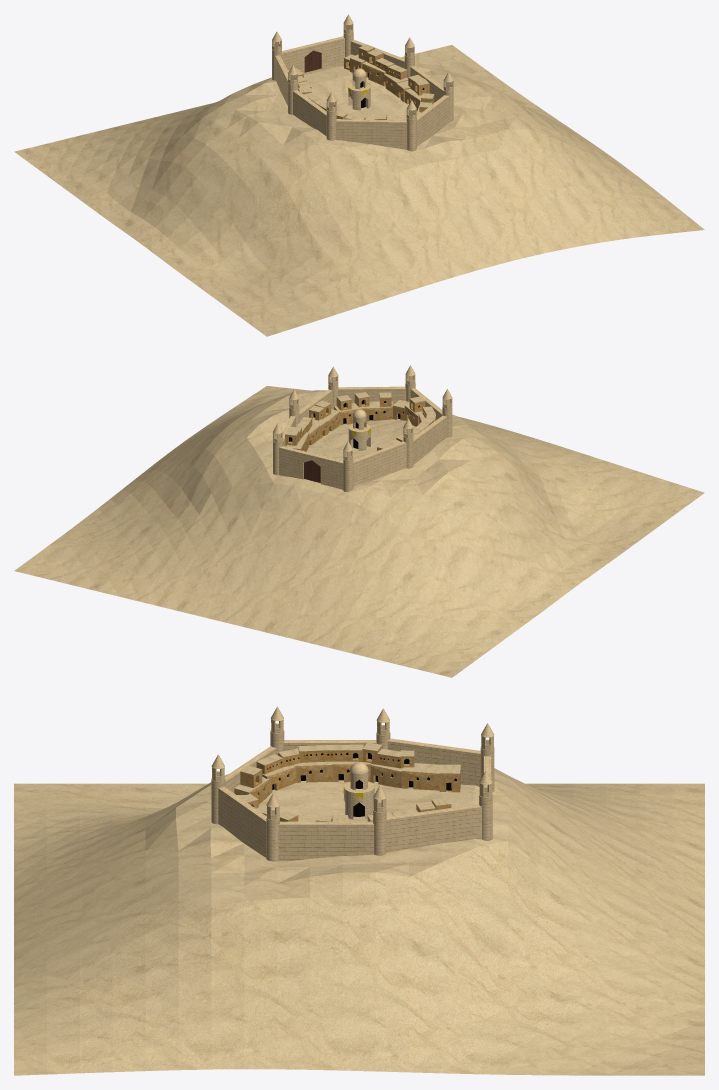
Rendered from castle_desert.dae.
The picture shows the model from 3 angles, top to bottom: view 1: azimuth 30°, elevation 25°; view 2: azimuth 150°, elevation 25°; view 3: azimuth 270°, elevation 25°; orthographic projection. The views are drawn at different scales.
Visible parts, largest first — view 1: Plane, Cube.007, Cube.005, Cube.004, Cube.002, Cylinder; view 2: Plane, Cube.005, Cube.003, Cube.002, Cube.004, Cylinder.005; view 3: Plane, Cube.001, Cube.006, Cube.004, Cube.003, Cube.027, Cylinder, Cylinder.002, Cylinder.007, Cylinder.006, Cube.024, Cylinder.001 (+5 smaller).
Part boxes in pixels (left/top/right/bottom): Plane: left=14, top=45, right=704, bottom=336; Cube.007: left=335, top=119, right=407, bottom=149; Cube.005: left=282, top=36, right=344, bottom=73; Cube.004: left=416, top=95, right=449, bottom=146; Cube.002: left=293, top=90, right=326, bottom=136; Cylinder: left=348, top=82, right=370, bottom=110; Plane: left=14, top=386, right=704, bottom=677; Cube.005: left=279, top=446, right=343, bottom=489; Cube.003: left=353, top=441, right=406, bottom=487; Cube.002: left=413, top=415, right=447, bottom=464; Cube.004: left=338, top=386, right=406, bottom=404; Cylinder.005: left=343, top=441, right=353, bottom=491; Plane: left=14, top=768, right=704, bottom=1075; Cube.001: left=278, top=821, right=374, bottom=861; Cube.006: left=386, top=804, right=481, bottom=852; Cube.004: left=218, top=786, right=266, bottom=857; Cube.003: left=387, top=738, right=480, bottom=786; Cube.027: left=401, top=763, right=439, bottom=790; Cylinder: left=344, top=781, right=374, bottom=819; Cylinder.002: left=373, top=785, right=386, bottom=855; Cylinder.007: left=266, top=793, right=279, bottom=861; Cylinder.006: left=479, top=770, right=492, bottom=841; Cube.024: left=294, top=761, right=332, bottom=782; Cylinder.001: left=211, top=754, right=225, bottom=824.
Size of the model in its own units: 200 by 200 by 59.05.
Materials: 6 (4 with a texture image).
